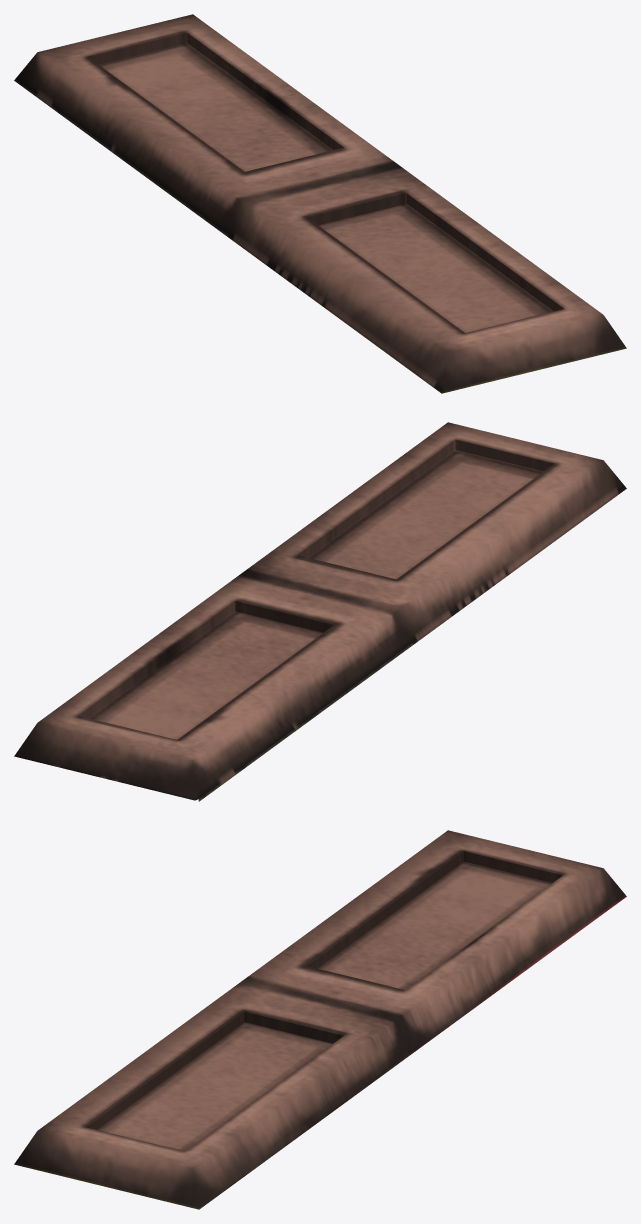
Rendered from 4x1red.FBX.
3 views of the same model, one above another, from view 1: azimuth 30°, elevation 25°; view 2: azimuth 150°, elevation 25°; view 3: azimuth 330°, elevation 25° (orthographic).
Parts seen in each view (by area): view 1: Object031; view 2: Object031; view 3: Object031.
Part boxes in pixels (box(x1,y1,x2,y2)): Object031: box(14, 14, 626, 393); Object031: box(14, 422, 626, 801); Object031: box(14, 830, 626, 1209).
Bounding box in the file's own units: 6.25 × 1 × 25.
